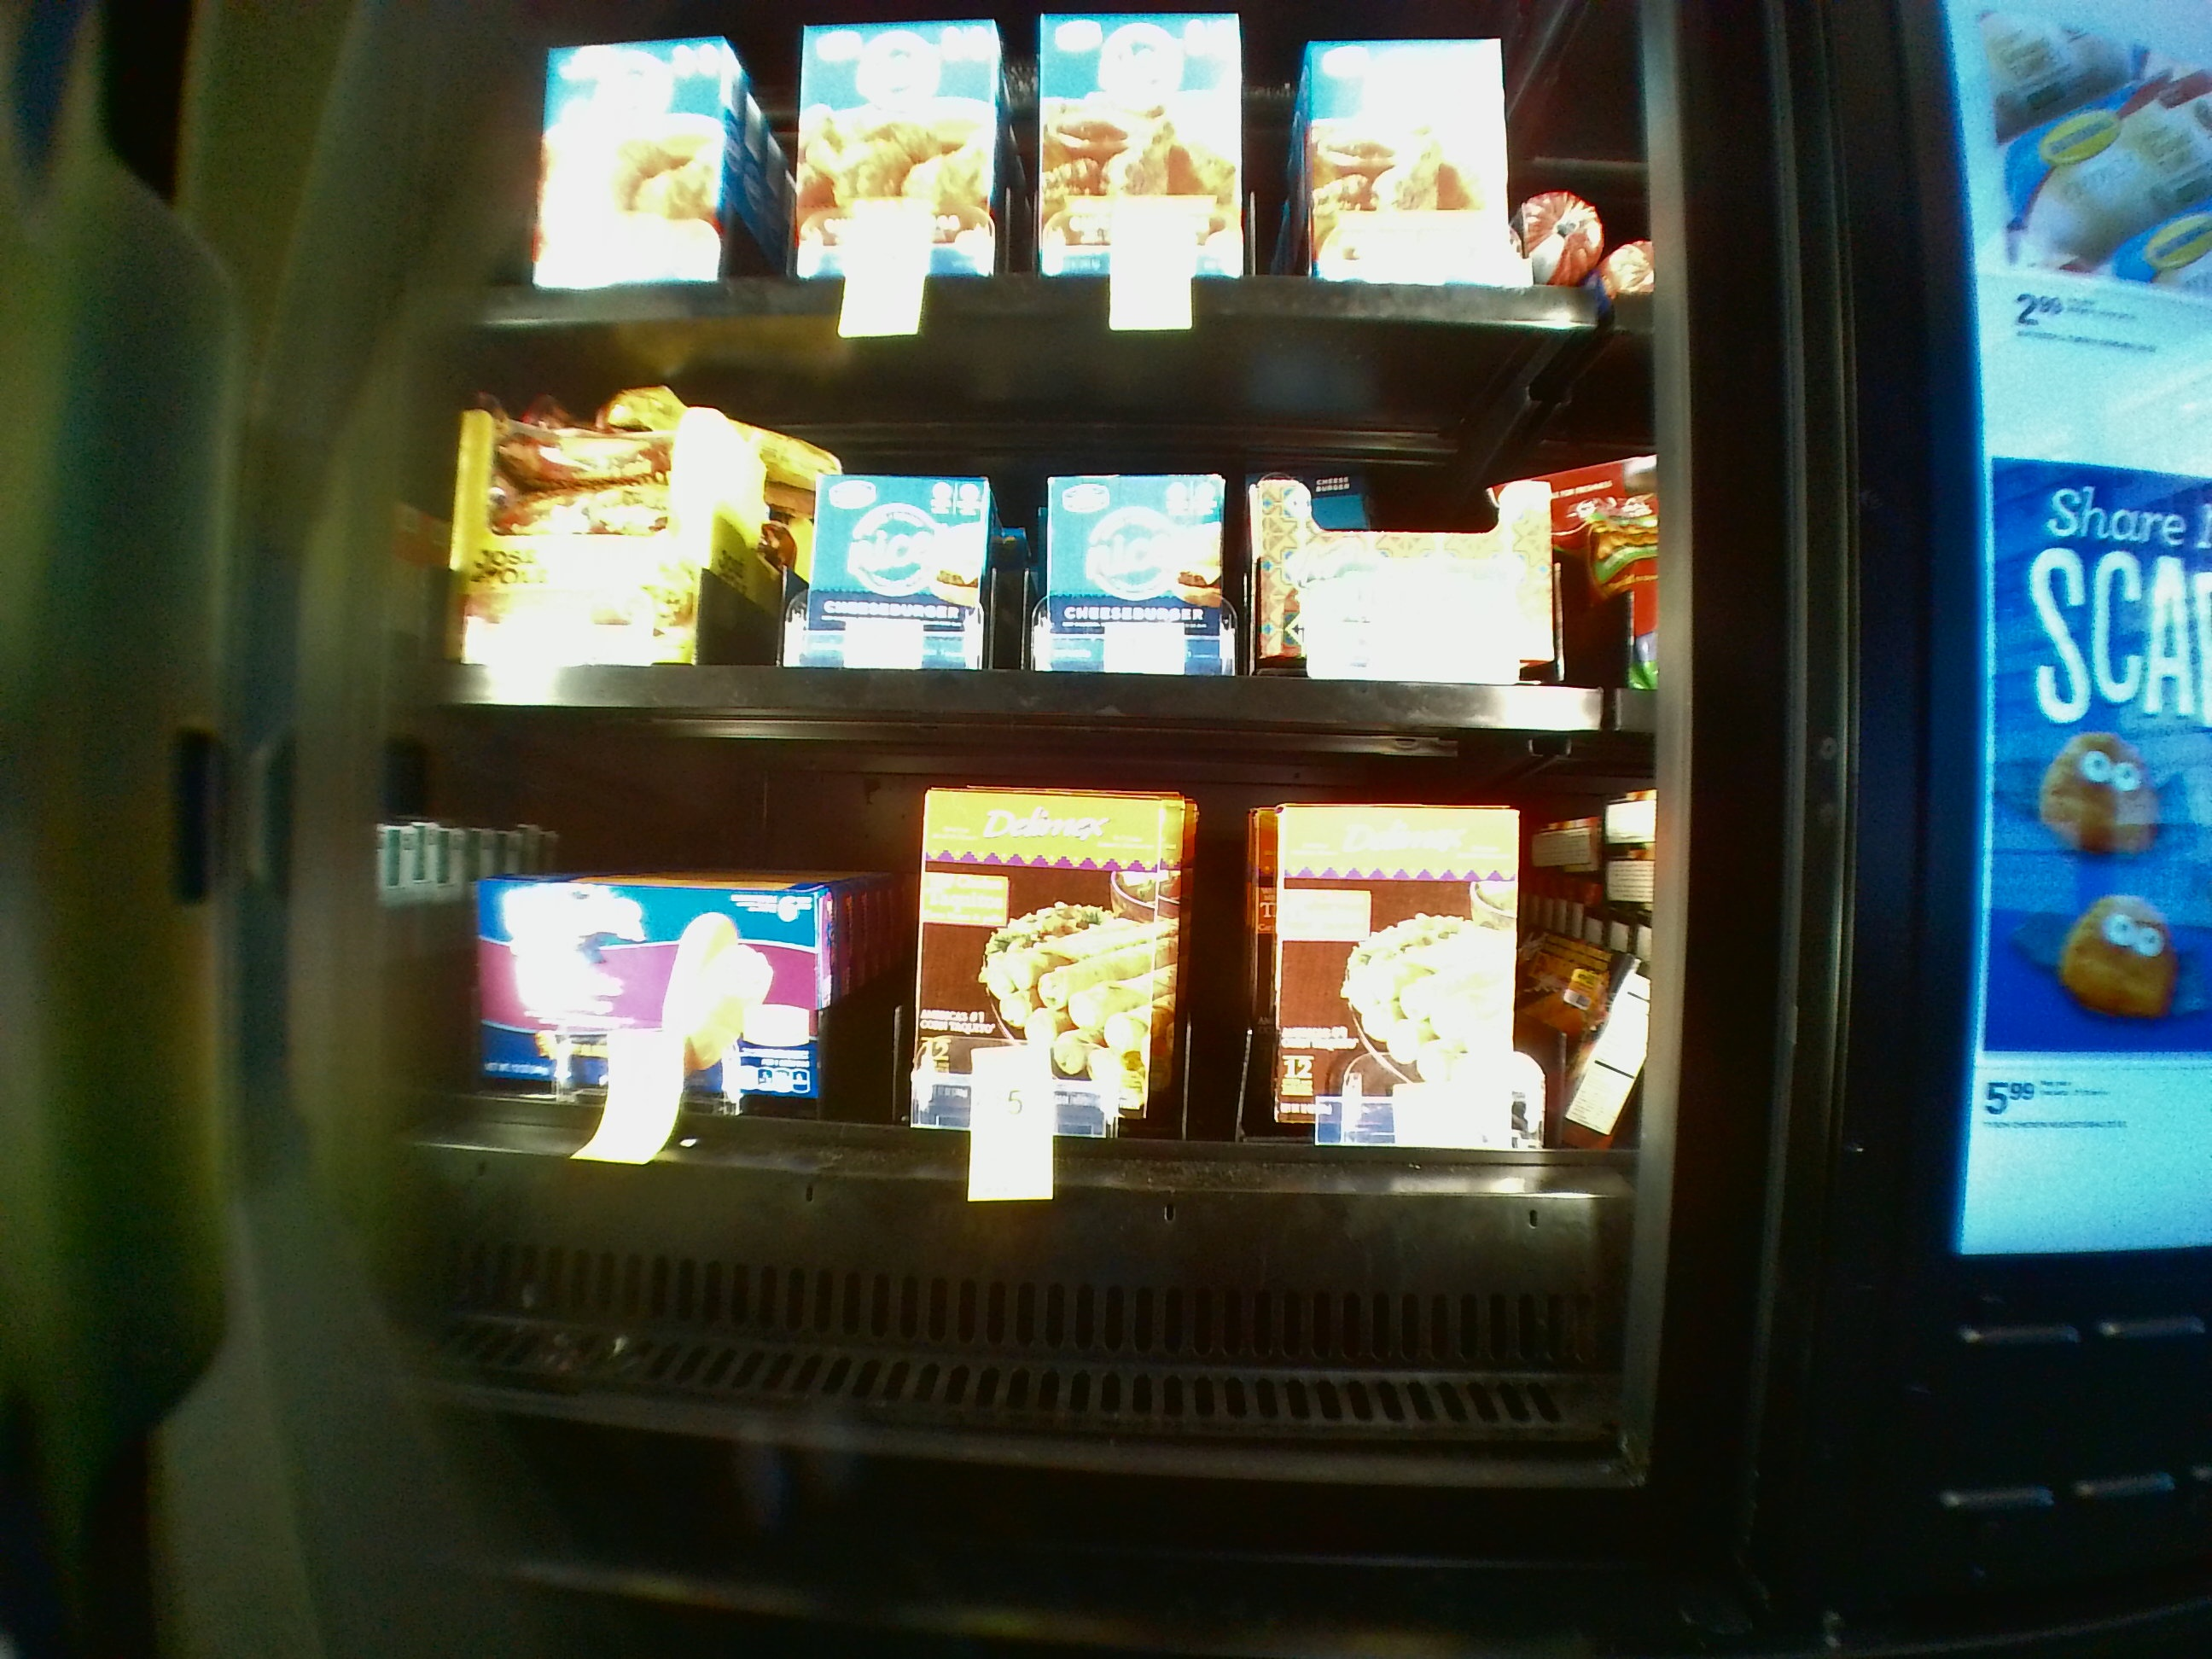shelf: (404, 751, 1627, 1462), (409, 329, 1651, 734)
